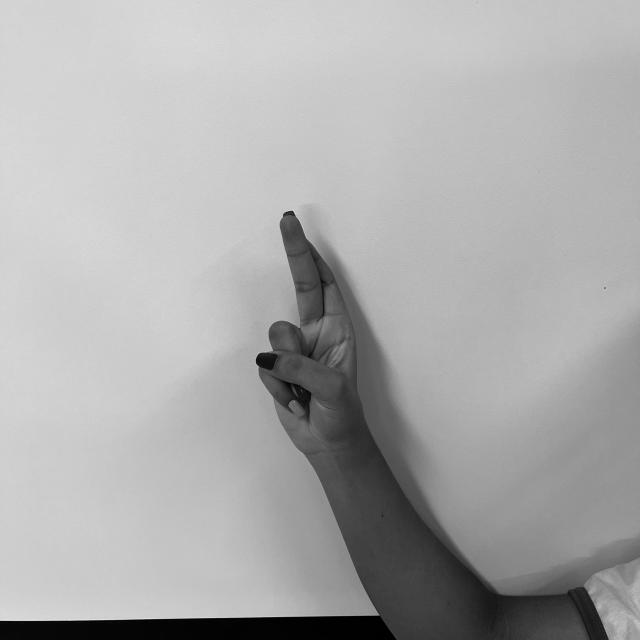Letra R: (246, 203, 368, 450)
